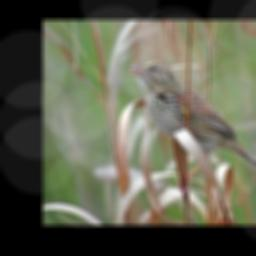Sparrow: (125, 59, 256, 193)
